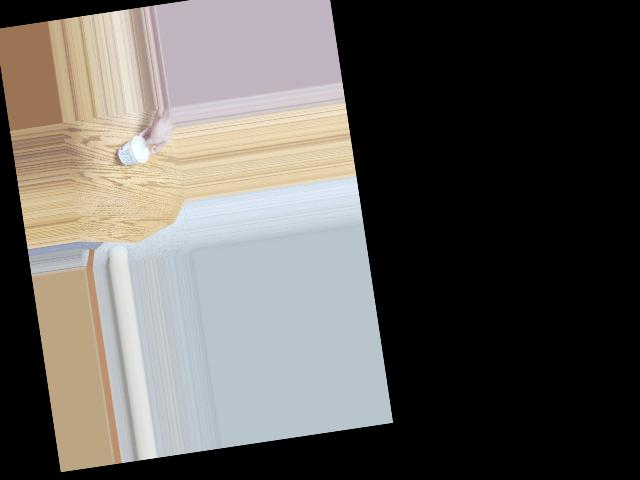cotage: (115, 135, 149, 170)
